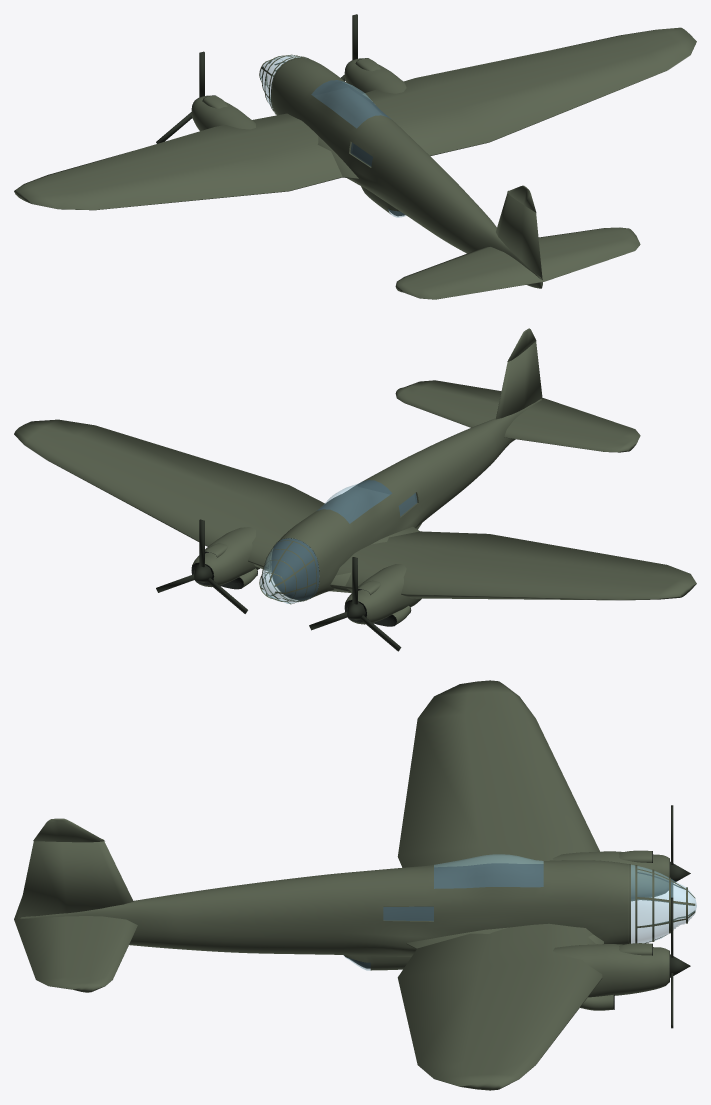
3 renders of one model, top to bottom at view 1: azimuth 30°, elevation 25°; view 2: azimuth 150°, elevation 25°; view 3: azimuth 270°, elevation 25°, orthographic. The views are drawn at different scales.
Visible parts, largest first — view 1: Mesh_31, Mesh_30, Mesh_33, Mesh_19, Mesh_29, Mesh_1, Mesh_3, Mesh_10, Mesh_2, Mesh_0; view 2: Mesh_31, Mesh_30, Mesh_33, Mesh_29, Mesh_0, Mesh_19, Mesh_10, Mesh_3, Mesh_1, Mesh_2; view 3: Mesh_31, Mesh_30, Mesh_33, Mesh_19, Mesh_1, Mesh_3, Mesh_29, Mesh_0, Mesh_10, Mesh_2, Mesh_20.
Boxes of the visible parts, x1,y1,x2,y2 form: Mesh_31: (14,27,696,210); Mesh_30: (271,57,542,288); Mesh_33: (395,227,640,299); Mesh_19: (496,190,542,283); Mesh_29: (311,80,404,216); Mesh_1: (311,80,390,166); Mesh_3: (344,58,406,93); Mesh_10: (191,95,255,130); Mesh_2: (259,54,308,114); Mesh_0: (260,55,300,108); Mesh_31: (14,419,696,600); Mesh_30: (278,398,541,598); Mesh_33: (395,380,640,452); Mesh_29: (271,480,417,600); Mesh_0: (260,538,319,603); Mesh_19: (496,341,542,419); Mesh_10: (344,564,421,624); Mesh_3: (191,527,259,587); Mesh_1: (317,480,417,523); Mesh_2: (259,537,320,604); Mesh_31: (397,680,603,1090); Mesh_30: (20,860,628,970); Mesh_33: (14,896,137,992); Mesh_19: (18,839,133,918); Mesh_1: (383,854,543,921); Mesh_3: (553,944,669,997); Mesh_29: (347,863,543,968); Mesh_0: (631,864,696,943); Mesh_10: (553,851,669,901); Mesh_2: (629,864,695,943); Mesh_20: (33,818,104,842).
Bounding box in the file's own units: 22.6 × 3.92 × 16.21.
